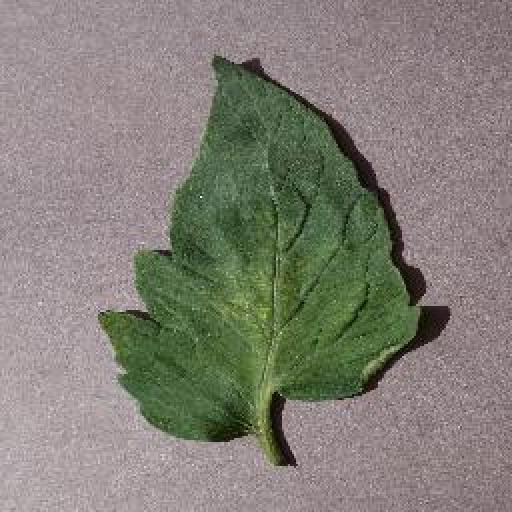disease_tomato: (96, 52, 424, 443)
